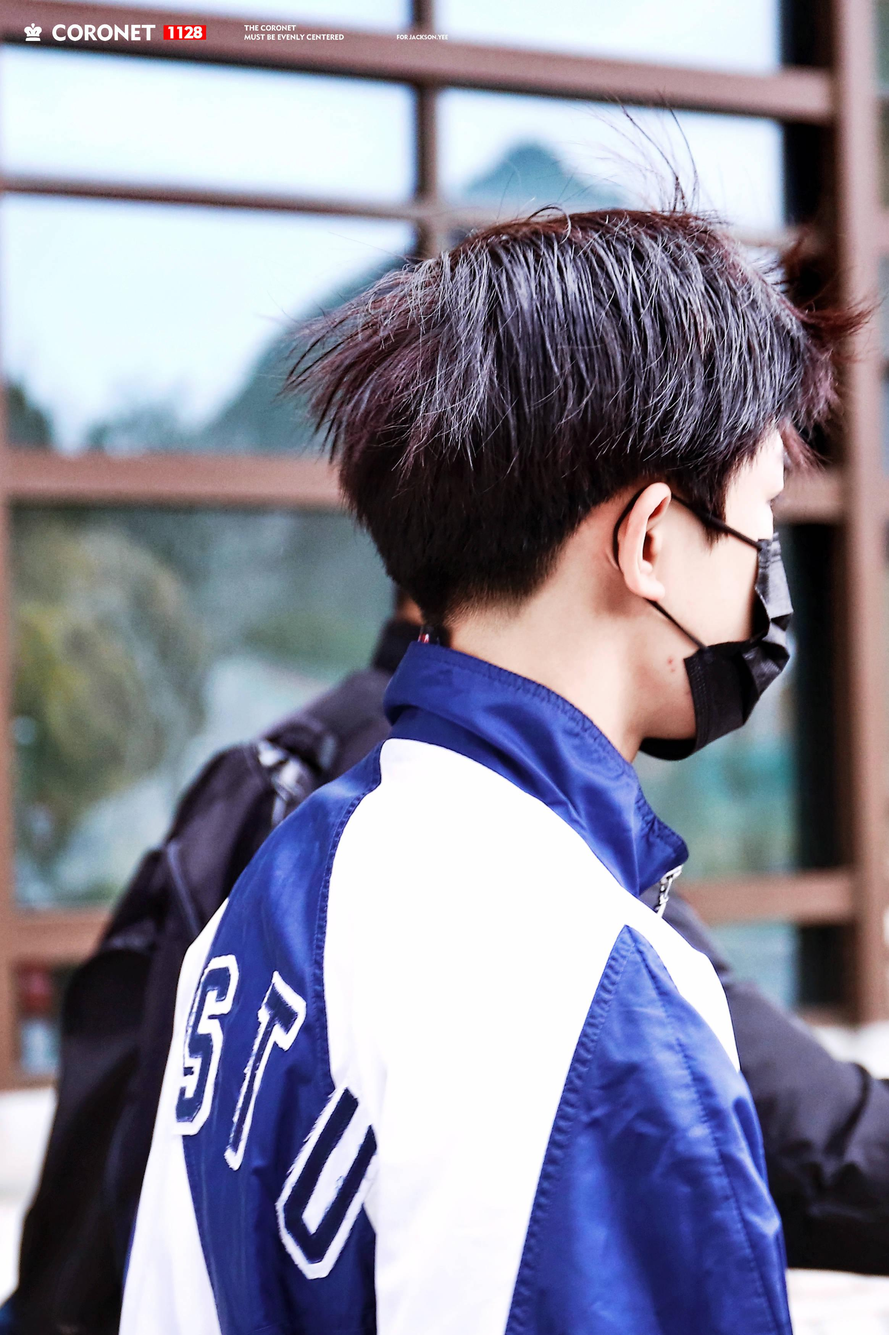OK: (672, 438, 794, 760)
